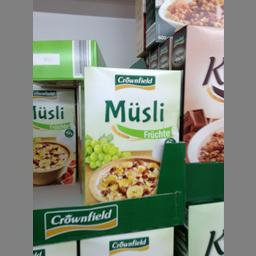cereal: (80, 65, 183, 202), (32, 86, 73, 186)
